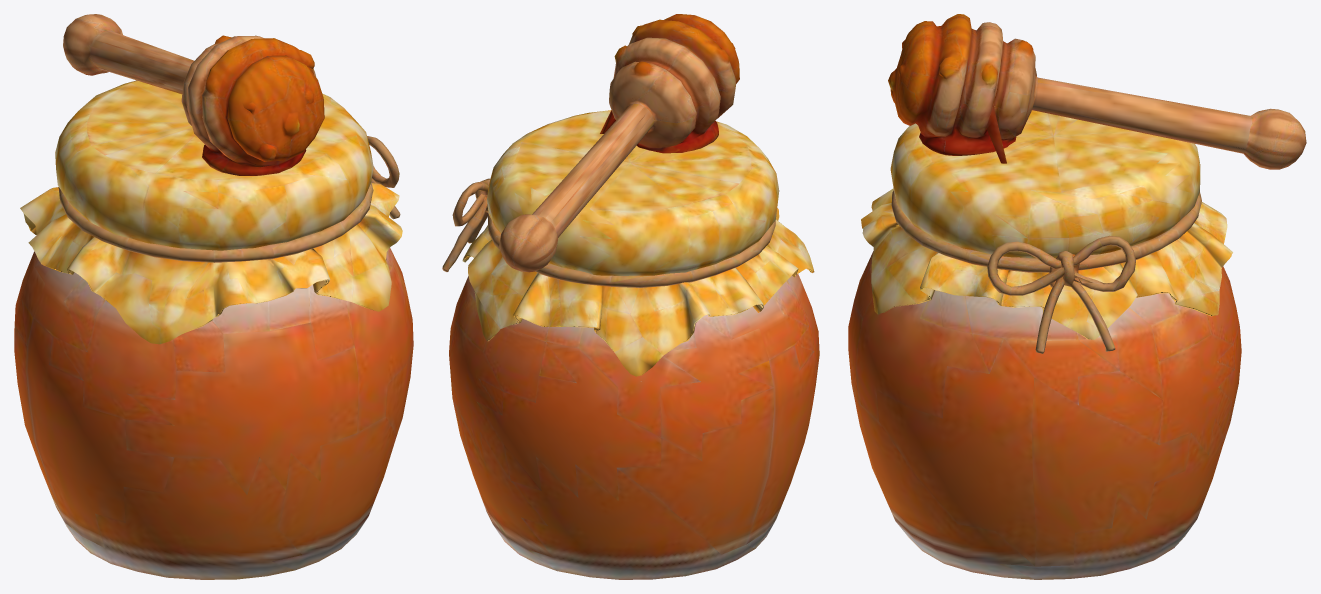
Rendered from item11_amber_honey_jar.glb.
The picture shows the model from 3 angles, left to right: view 1: azimuth 30°, elevation 25°; view 2: azimuth 150°, elevation 25°; view 3: azimuth 270°, elevation 25°; orthographic projection. The views are drawn at different scales.
Parts seen in each view (by area): view 1: geometry_0; view 2: geometry_0; view 3: geometry_0.
Part boxes in pixels (x1,y1,x2,y2): geometry_0: (14, 14, 413, 579); geometry_0: (442, 14, 819, 579); geometry_0: (848, 14, 1306, 579).
Bounding box in the file's own units: 0.6895 × 0.9502 × 0.7861.
Materials: 1 (1 with a texture image).
